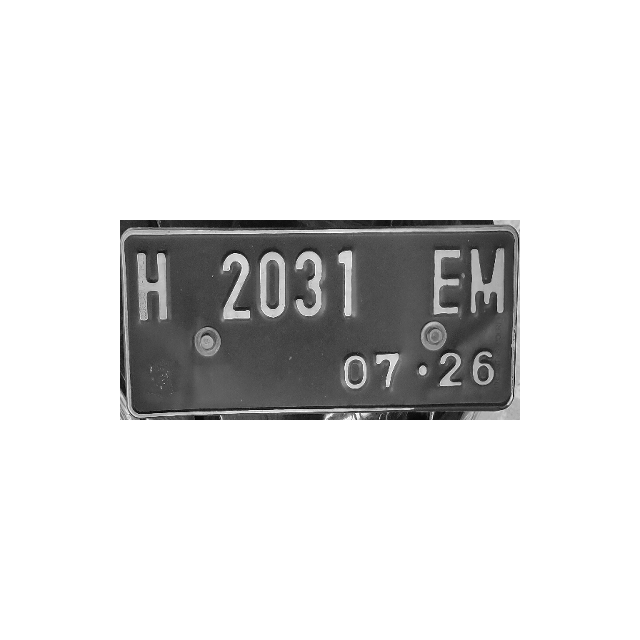contain: (213, 243, 255, 323), (467, 238, 509, 317), (131, 251, 173, 329), (291, 241, 326, 324), (330, 239, 364, 324), (430, 242, 467, 320), (255, 244, 289, 326)
